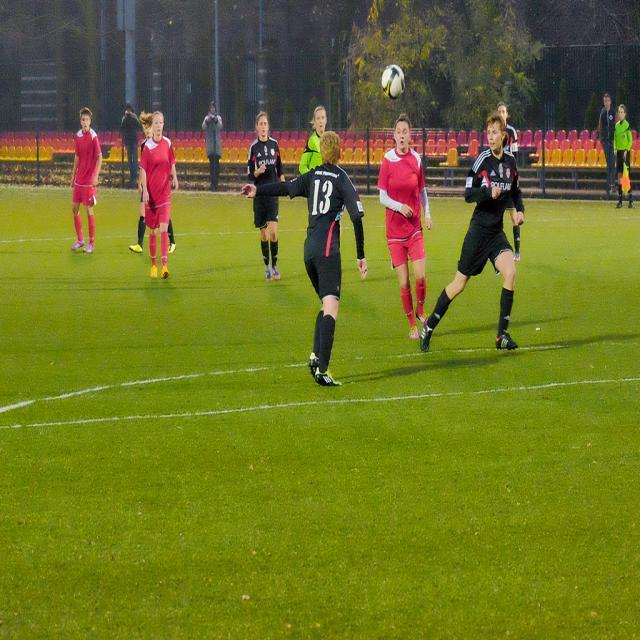football: (378, 62, 417, 104)
